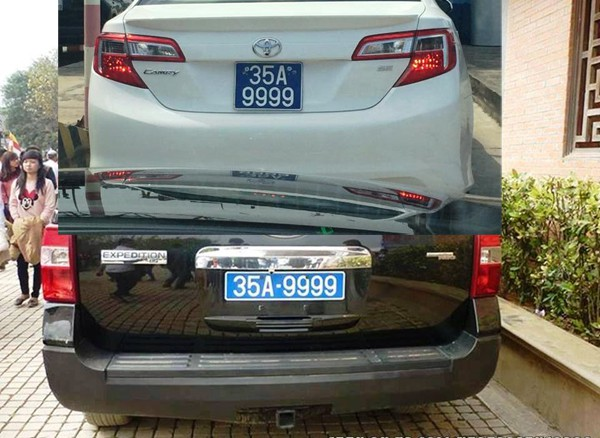plate: (224, 269, 345, 298), (233, 61, 303, 110)
